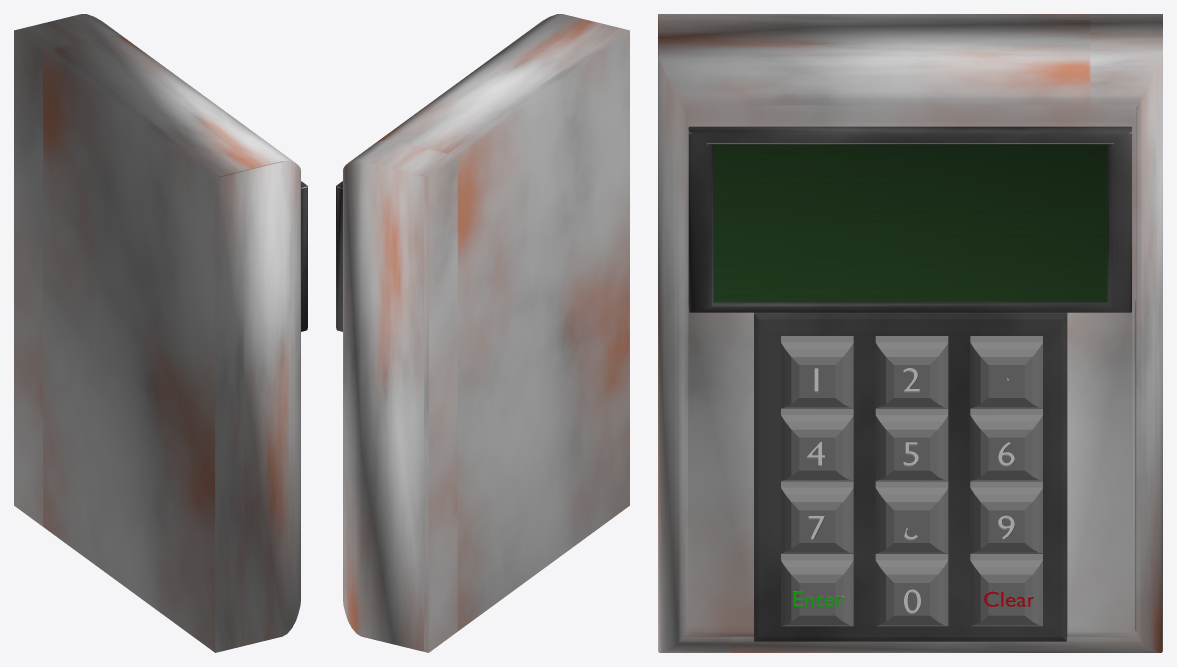
The model's file is KeyPad.fbx.
3 views of the same model, side by side, from view 1: azimuth 30°, elevation 25°; view 2: azimuth 150°, elevation 25°; view 3: azimuth 270°, elevation 25° (orthographic). The views are drawn at different scales.
Parts seen in each view (by area): view 1: KeyPad; view 2: KeyPad; view 3: KeyPad, Key8, Key2, Key5, Key0, Key1, KeyEnter, Key3, Key4, Key6, Key7, Key9 (+1 smaller).
Part boxes in pixels (box(x1,y1,x2,y2)): KeyPad: box(14, 14, 307, 652); KeyPad: box(336, 14, 629, 652); KeyPad: box(658, 14, 1162, 652); Key8: box(875, 481, 948, 553); Key2: box(875, 336, 948, 408); Key5: box(875, 408, 948, 480); Key0: box(875, 554, 948, 626); Key1: box(781, 336, 853, 408); KeyEnter: box(781, 554, 853, 626); Key3: box(970, 336, 1042, 408); Key4: box(781, 408, 853, 480); Key6: box(970, 408, 1042, 480); Key7: box(781, 481, 853, 553); Key9: box(970, 481, 1042, 553).
Bounding box in the file's own units: 34.77 × 125 × 95.9.
